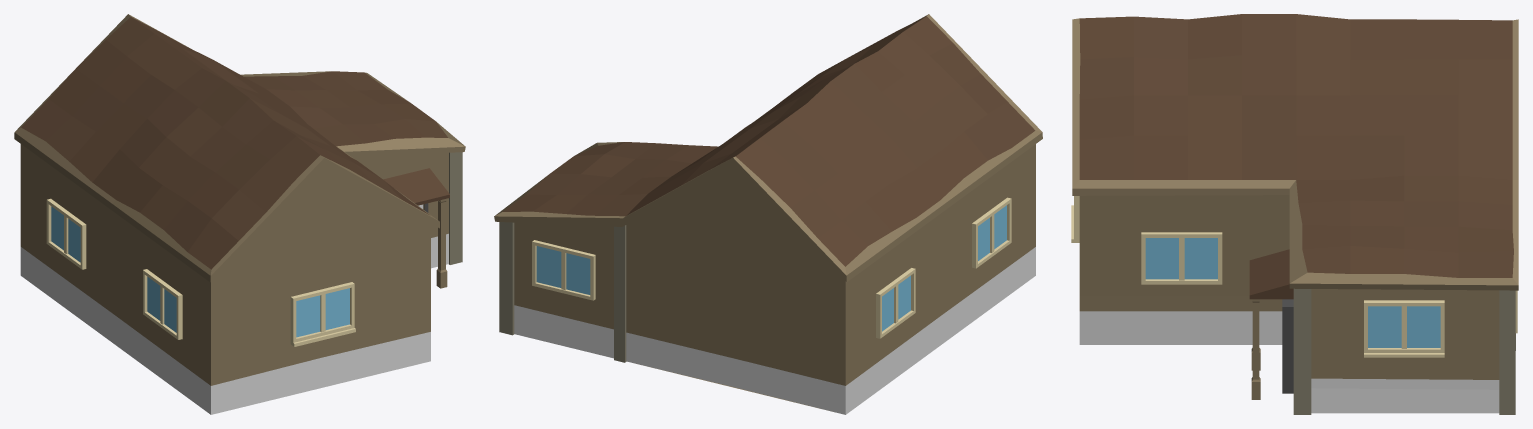
Rendered from homeeeeeee.fbx.
3 renders of one model, left to right at view 1: azimuth 30°, elevation 25°; view 2: azimuth 150°, elevation 25°; view 3: azimuth 270°, elevation 25°, orthographic. The views are drawn at different scales.
Visible parts, largest first — view 1: ddgdgd; view 2: ddgdgd; view 3: ddgdgd.
Boxes of the visible parts, x1,y1,x2,y2 form: ddgdgd: [14, 14, 465, 414]; ddgdgd: [494, 14, 1042, 414]; ddgdgd: [1071, 14, 1518, 414].
Bounding box in the file's own units: 1289 × 838 × 1240.
